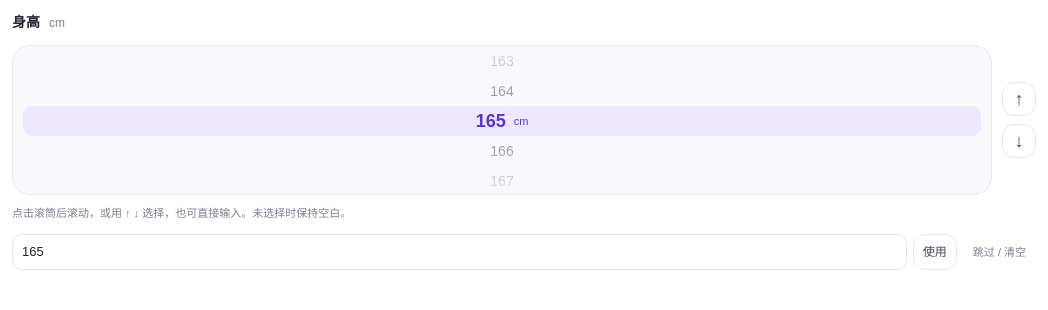
Test case: 资料滚筒控件 › 非法输入 -3 显示就近错误且不改变原值
Replace the text in the field with "-3": (459, 252) [12,234,907,270]
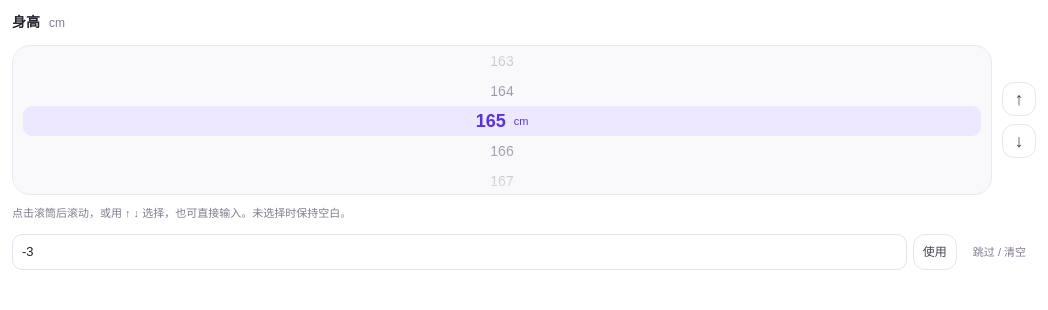
Leave the field, box [12,234,907,270]
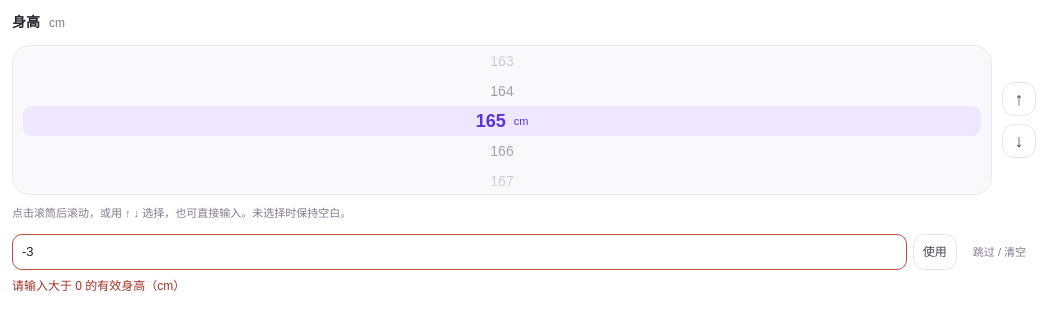
Check: the message shows "有效身高", box [12,279,185,293]
